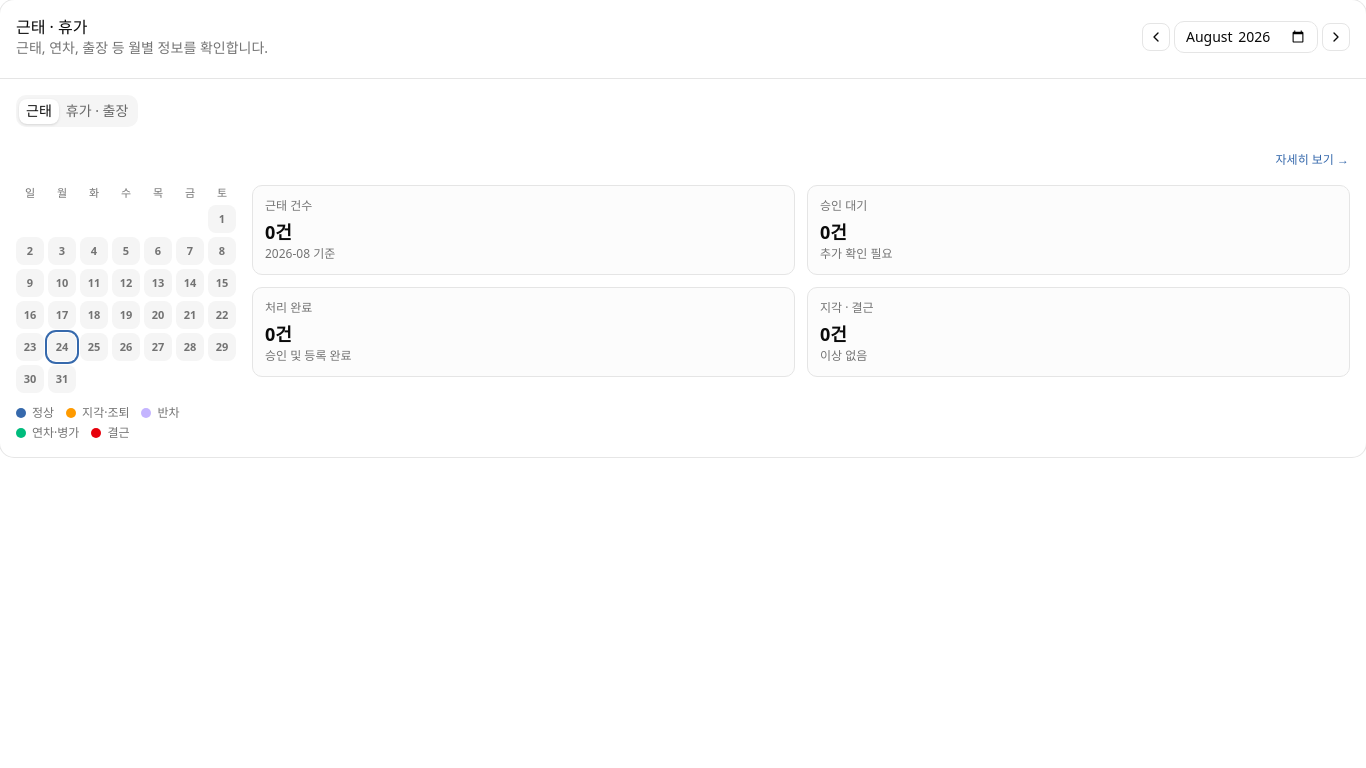
PersonalRecordsWidget - 휴가·출장 탭 › 잔여 휴가 게이지(연차/특별/포상)를 렌더하고, "자세히" 클릭 시 내 휴가 오버레이가 열린다
Click the tab "휴가 · 출장" at (97, 111), box [59,98,135,124]
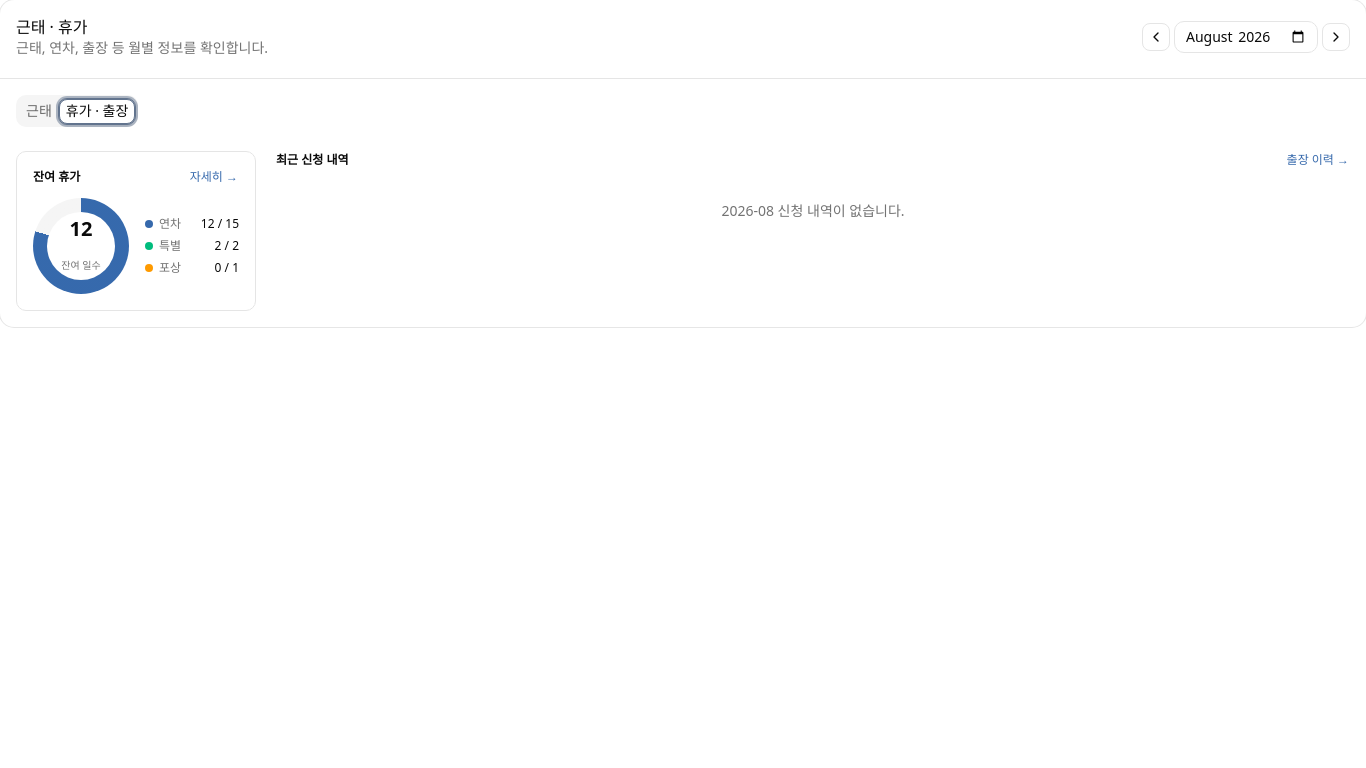
Check: the text "12 / 15" is shown, box [201,216,239,232]
Check: the text "2 / 2" is shown, box [214,238,239,254]
Check: the text "0 / 1" is shown, box [214,260,239,276]
Click the button "자세히 →" at (214, 177), box [189,168,239,186]
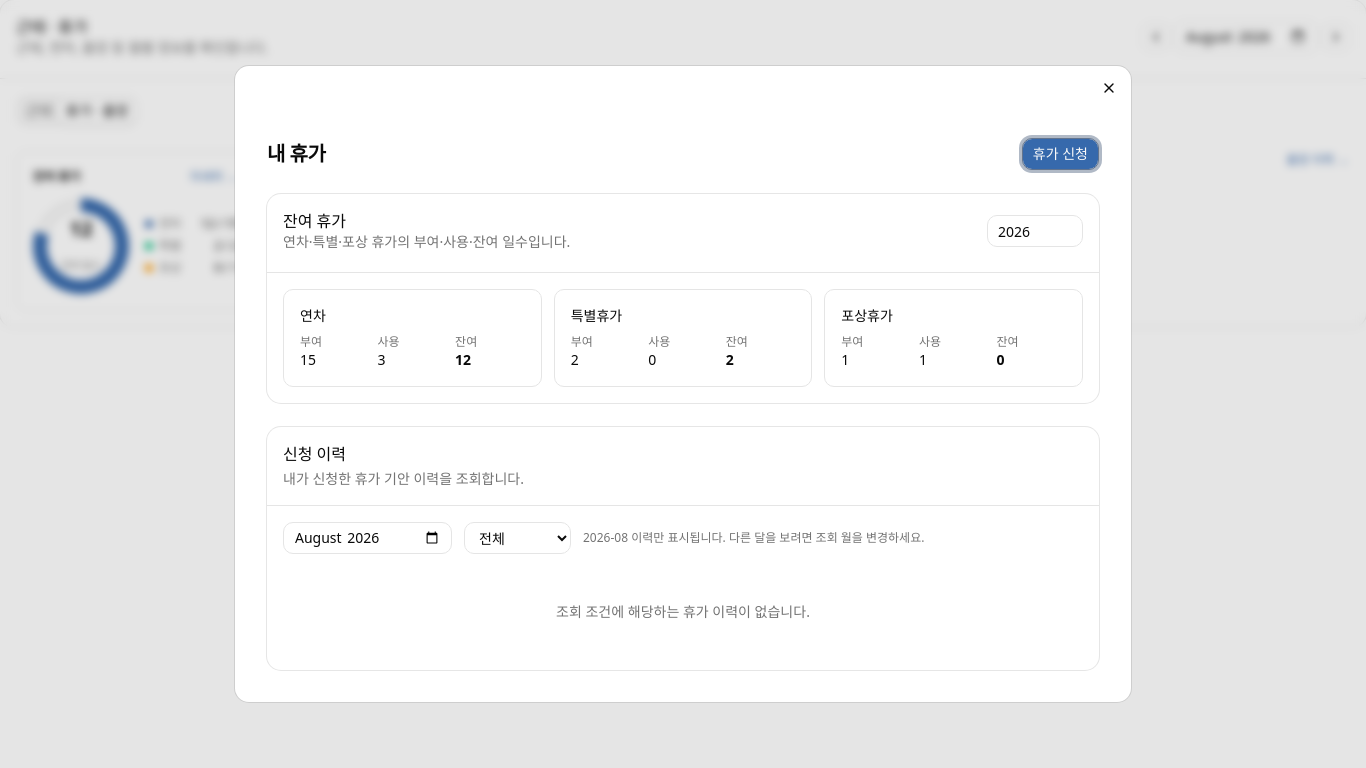
Check: the button "휴가 신청" is shown, box [1022,138,1099,170]
